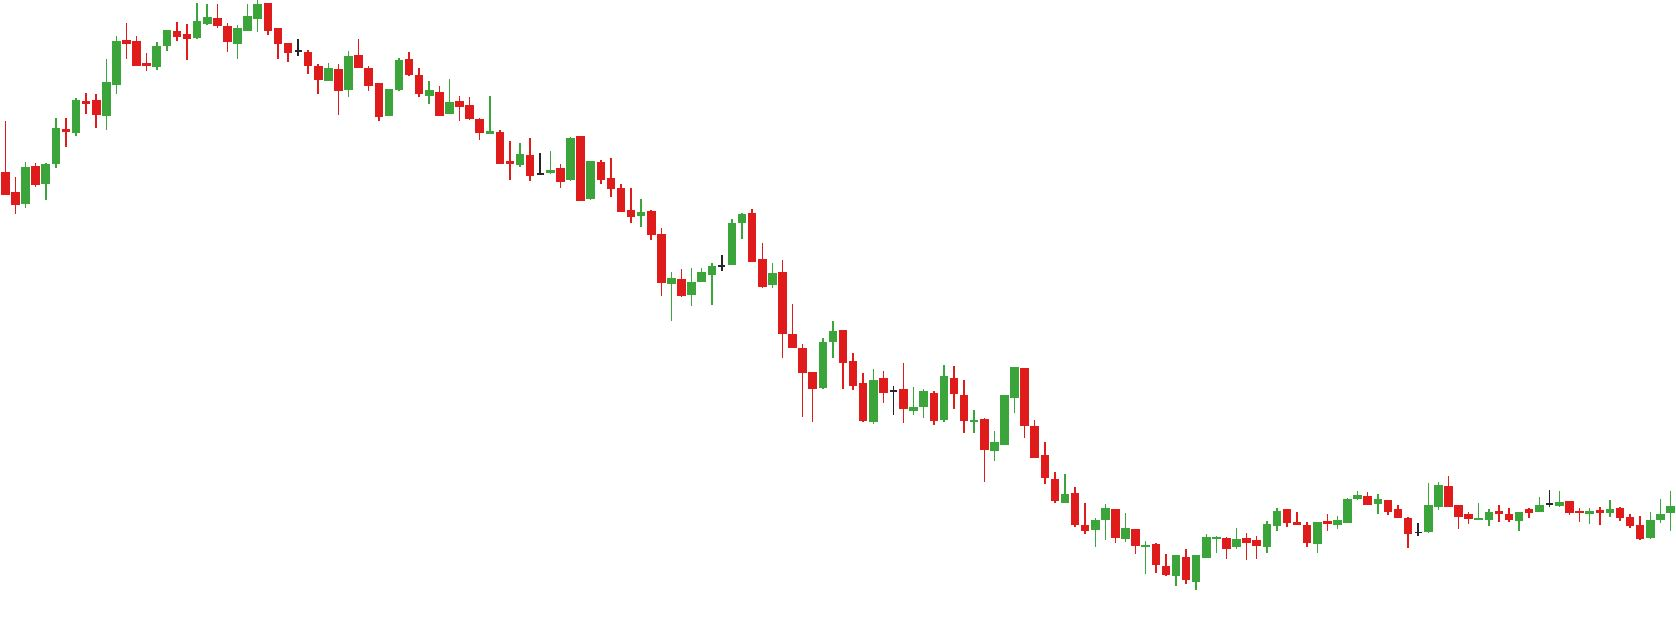sell: (938, 362, 1029, 450)
